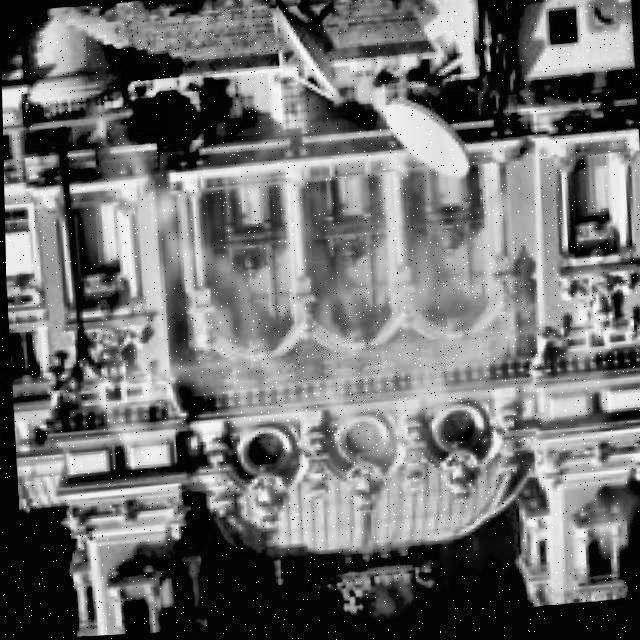Smoke: (61, 30, 640, 637)
